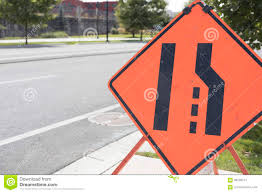laneEnds: (107, 3, 262, 172)
